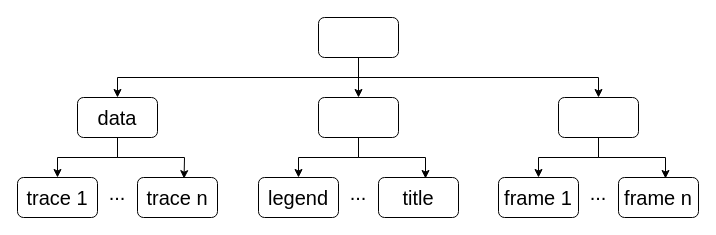
Image size: 716x235. Some labels were removed from this diagram. Each missing label, with the centre of its shape:
fig: (x=358, y=37)
frames: (x=598, y=117)
layout: (x=358, y=117)
